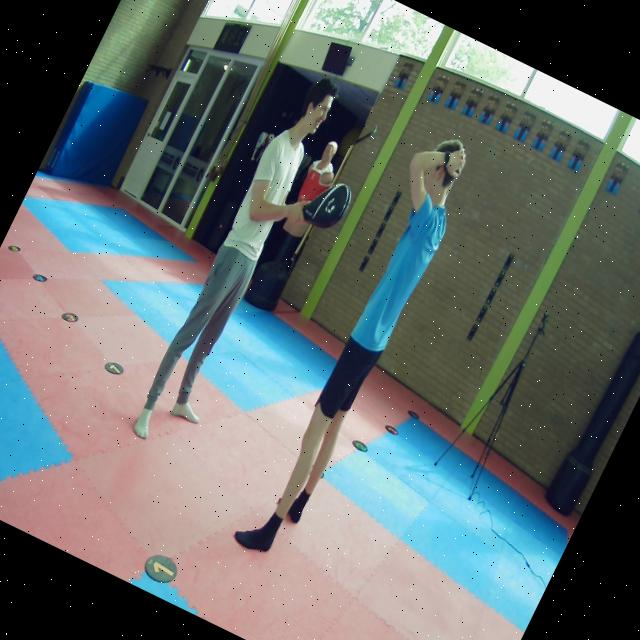paddle: (301, 181, 351, 226)
